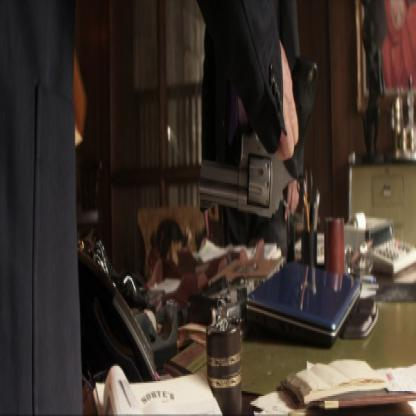Gun: (190, 50, 319, 231)
